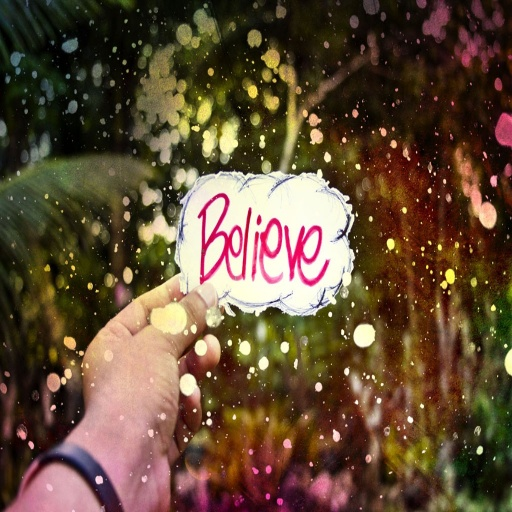hand: (58, 261, 220, 494)
